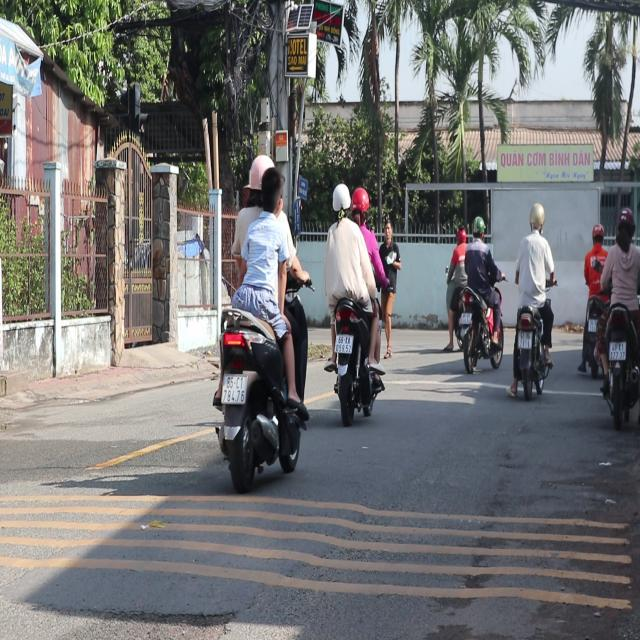helmet: (614, 206, 636, 250), (248, 154, 274, 189), (330, 182, 350, 220), (350, 186, 370, 223), (528, 202, 546, 232)
licenseplate: (210, 150, 312, 488), (320, 180, 388, 424), (509, 201, 555, 398), (598, 206, 639, 426)
motorcyclist: (260, 164, 284, 216)
nohelmet: (221, 374, 247, 403), (335, 333, 353, 353), (609, 342, 625, 361), (518, 331, 531, 348)
